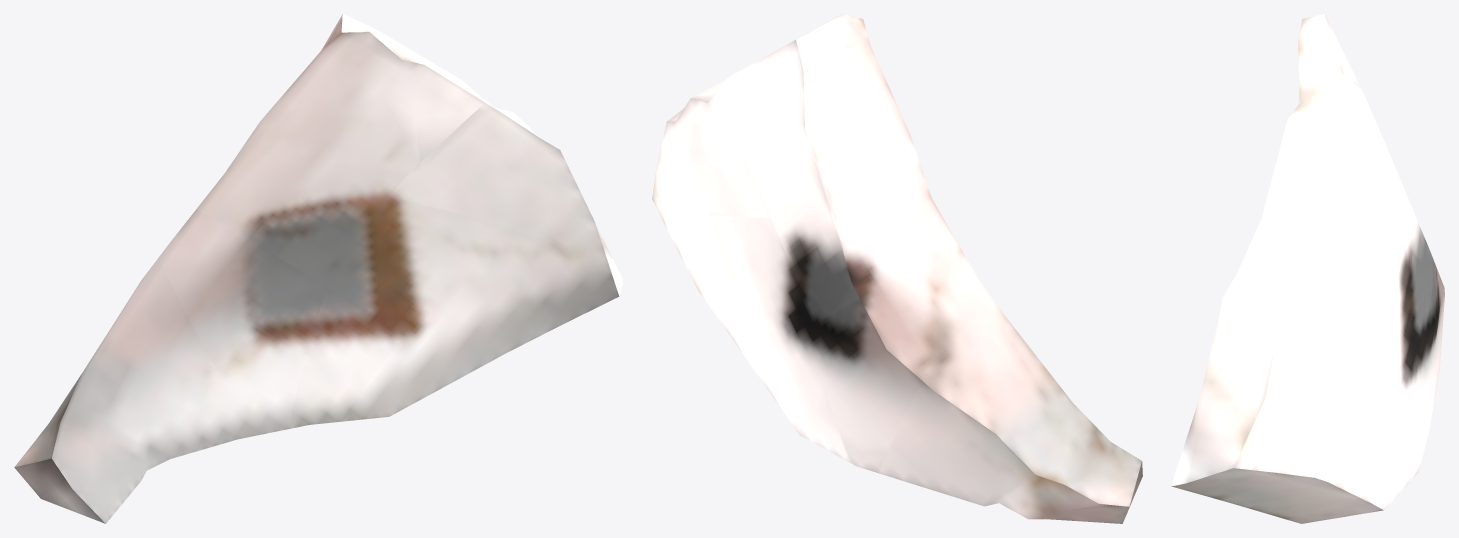
File: Ceramic017.gltf
3 views of the same model, side by side, from view 1: azimuth 30°, elevation 25°; view 2: azimuth 150°, elevation 25°; view 3: azimuth 270°, elevation 25° (orthographic). The views are drawn at different scales.
Visible parts, largest first — view 1: Ceramic017_002, Ceramic017_001, Ceramic017_003, Ceramic017_004, Ceramic017; view 2: Ceramic017_001, Ceramic017_003, Ceramic017_004, Ceramic017_002, Ceramic017; view 3: Ceramic017, Ceramic017_002, Ceramic017_001, Ceramic017_004.
Part boxes in pixels (bbox=[...]): Ceramic017_002: bbox=[288, 197, 623, 428]; Ceramic017_001: bbox=[197, 14, 484, 279]; Ceramic017_003: bbox=[14, 259, 259, 523]; Ceramic017_004: bbox=[158, 209, 346, 434]; Ceramic017: bbox=[389, 87, 612, 259]; Ceramic017_001: bbox=[723, 14, 954, 322]; Ceramic017_003: bbox=[879, 292, 1142, 523]; Ceramic017_004: bbox=[796, 238, 987, 473]; Ceramic017_002: bbox=[652, 195, 850, 462]; Ceramic017: bbox=[652, 81, 770, 217]; Ceramic017: bbox=[1185, 201, 1386, 460]; Ceramic017_002: bbox=[1171, 275, 1420, 523]; Ceramic017_001: bbox=[1265, 14, 1433, 333]; Ceramic017_004: bbox=[1408, 259, 1444, 475].
Bounding box in the file's own units: 0.1199 × 0.092 × 0.0443.
Materials: 1 (1 with a texture image).
